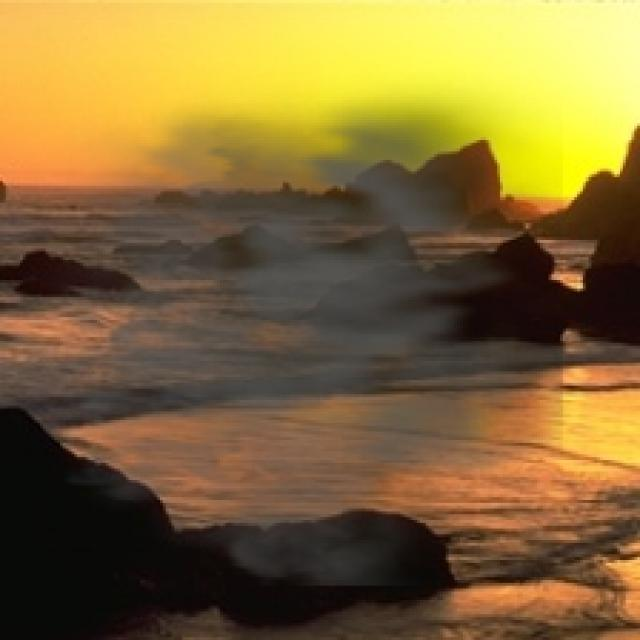smoke: (11, 71, 563, 586)
